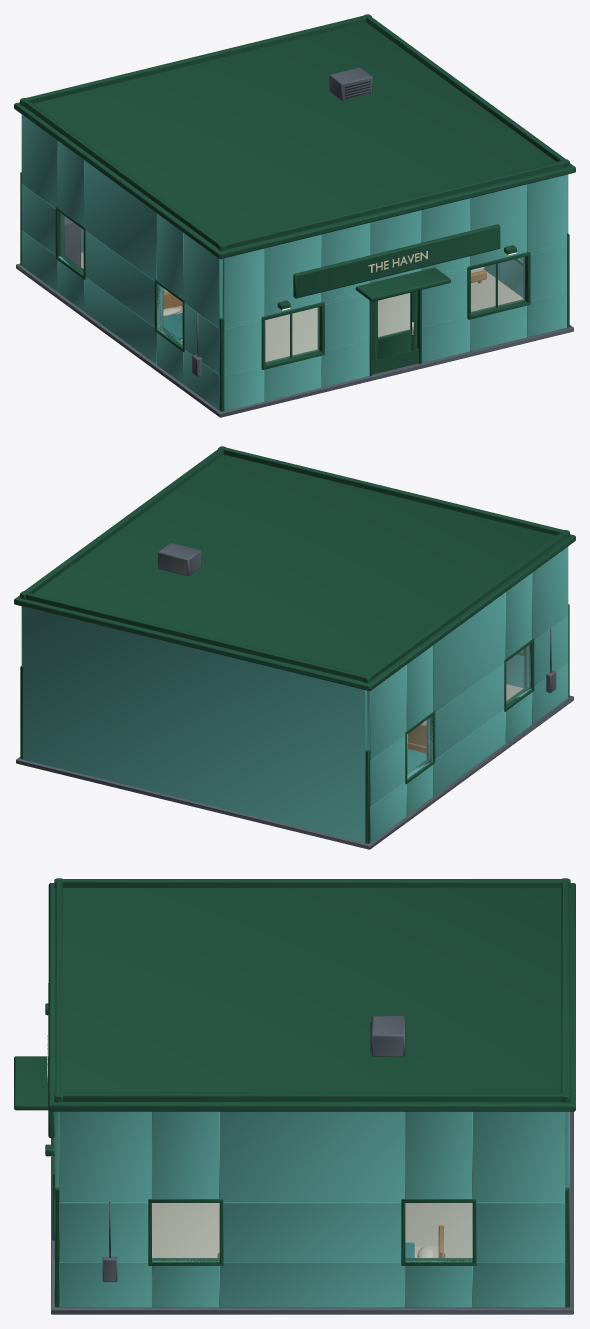
The model's file is shelter.glb.
The picture shows the model from 3 angles, top to bottom: view 1: azimuth 30°, elevation 25°; view 2: azimuth 150°, elevation 25°; view 3: azimuth 270°, elevation 25°; orthographic projection. The views are drawn at different scales.
Parts seen in each view (by area): view 1: roof_1_trim, shell_1_wall, shell_1_trim, glass_1_glass, shell_1_floor, shell_1_metal, door_1_trim, door_1_glass, roof_1_metal, interior_1_metal.003; view 2: shell_1_wall, roof_1_trim, shell_1_metal, shell_1_trim, glass_1_glass, roof_1_metal; view 3: roof_1_trim, shell_1_wall, glass_1_glass, shell_1_floor, shell_1_trim, shell_1_metal, roof_1_metal.
Part boxes in pixels (x1,y1,x2,y2): roof_1_trim: (14, 14, 575, 258); shell_1_wall: (21, 114, 568, 411); shell_1_trim: (20, 172, 569, 411); glass_1_glass: (61, 214, 524, 363); shell_1_floor: (81, 252, 523, 361); shell_1_metal: (16, 263, 573, 417); door_1_trim: (372, 291, 417, 360); door_1_glass: (378, 293, 410, 337); roof_1_metal: (329, 67, 372, 100); interior_1_metal.003: (64, 216, 80, 266); shell_1_wall: (21, 546, 568, 843); roof_1_trim: (14, 446, 575, 690); shell_1_metal: (16, 629, 573, 849); shell_1_trim: (20, 604, 569, 843); glass_1_glass: (407, 646, 528, 776); roof_1_metal: (158, 543, 201, 575); roof_1_trim: (48, 878, 575, 1111); shell_1_wall: (54, 1111, 569, 1307); glass_1_glass: (152, 1203, 472, 1259); shell_1_floor: (152, 1203, 472, 1257); shell_1_trim: (14, 983, 569, 1307); shell_1_metal: (51, 1111, 573, 1314); roof_1_metal: (371, 1016, 405, 1056).
Bounding box in the file's own units: 12.58 × 6.09 × 13.32.
